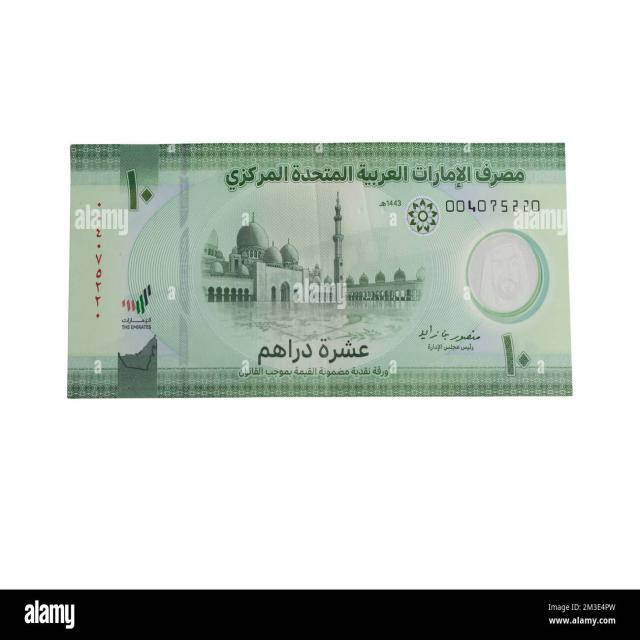10_AED: (74, 146, 573, 394)
